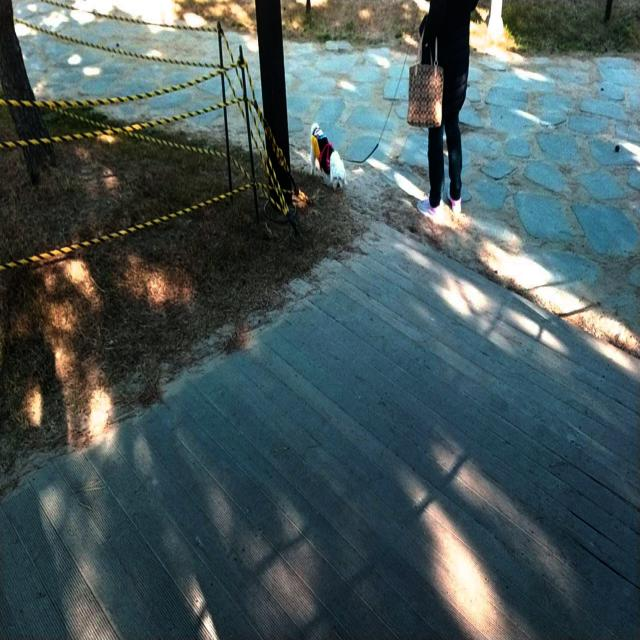Leashed_Dog: (310, 0, 444, 192)
